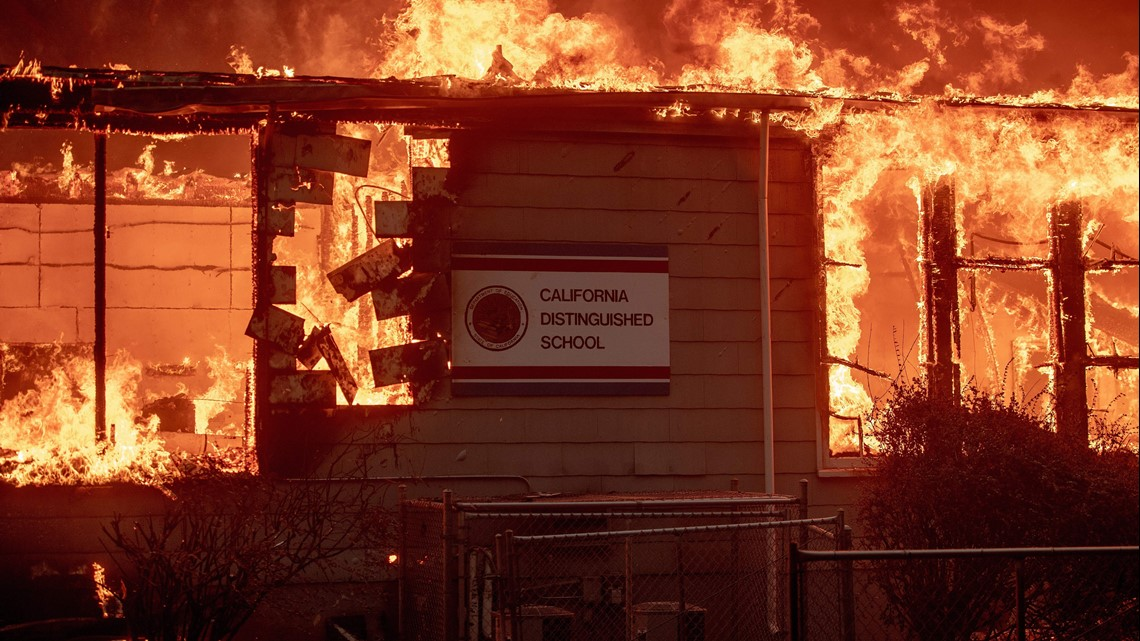fire: (896, 82, 1132, 408), (395, 7, 820, 89), (295, 187, 418, 405), (814, 134, 883, 451), (8, 363, 137, 482)
smoke: (21, 3, 378, 72), (850, 7, 1140, 68)
